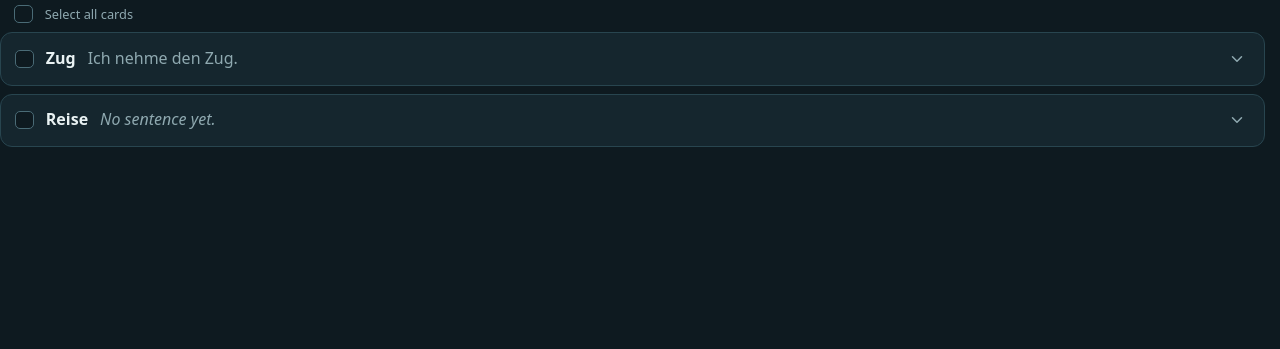
a line shows the word and the sentence, and a click opens it with the translation and the buttons
Expected: the text with class "card-word" reads "Zug", [46,47,76,69]
Expected: the text with class "card-sentence" reads "Ich nehme den Zug.", [88,47,238,69]
Click the button with class "card-main" showing "Zug Ich nehme den Zug.": (163, 58) [46,43,1168,75]
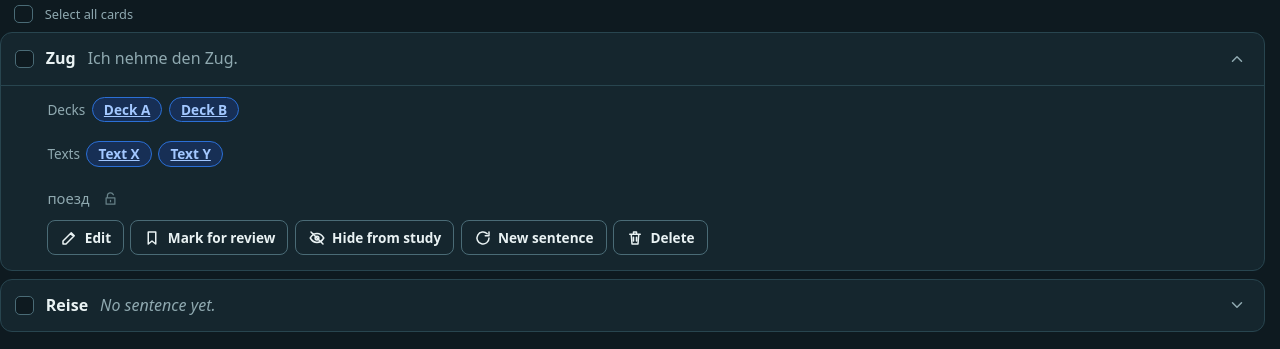
Result: the element with class "card-detail" shows "поезд" at [47,188,90,208]
Click the button with class "card-main" showing "Zug Ich nehme den Zug.": (163, 58) [46,43,1168,75]
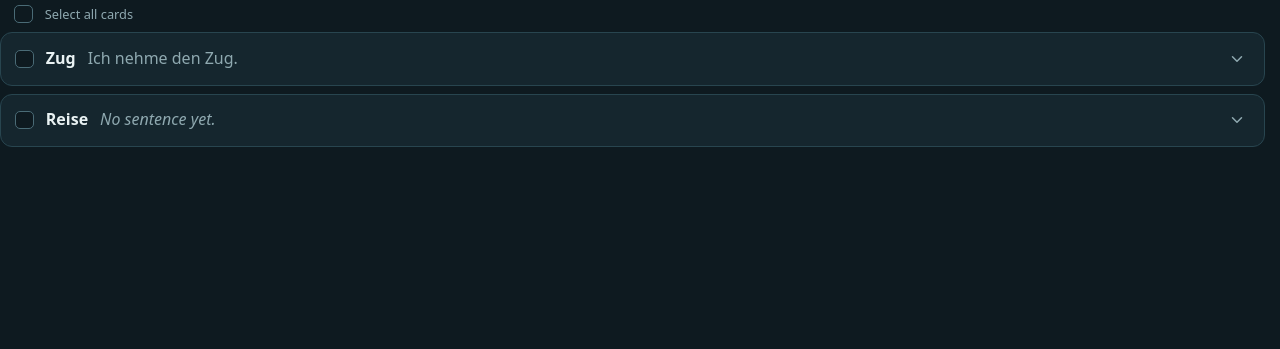
Result: the element with class "card-detail" is gone
